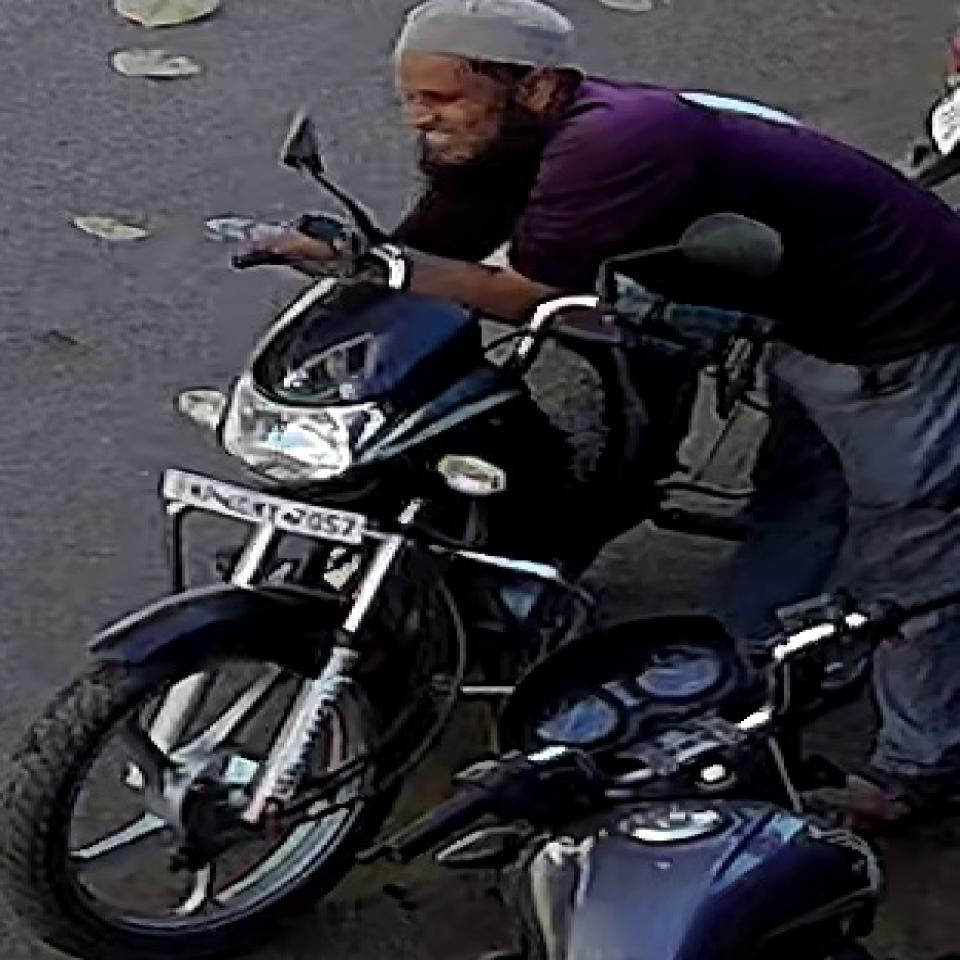head_light: (214, 370, 395, 482)
